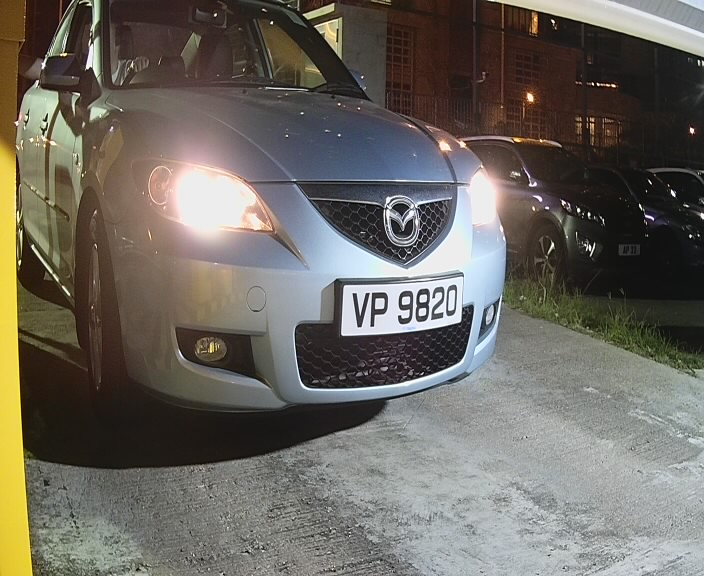License Plate: (331, 268, 470, 344)
